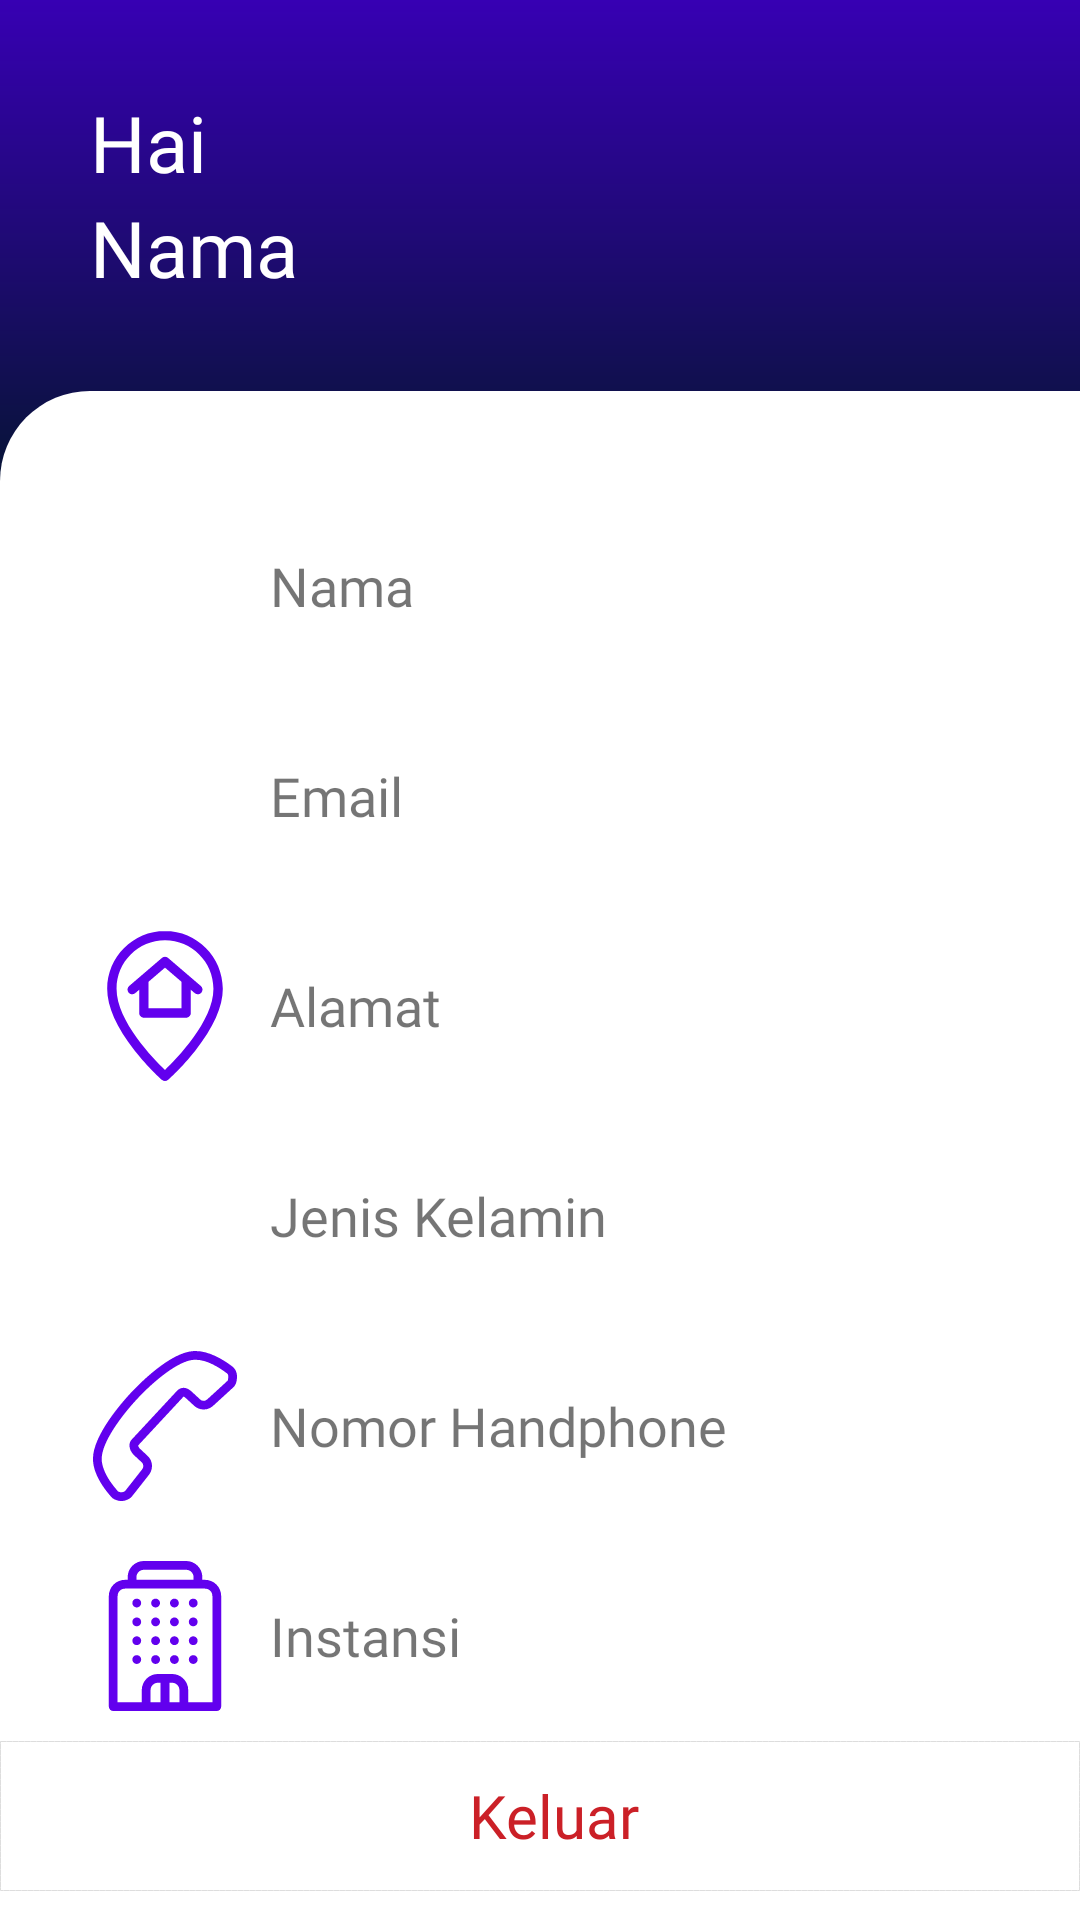

Where icons sit on this 1080px×1920px app screen, as (x1, y1, x2, y2):
address: (107, 931, 223, 1081)
company: (108, 1561, 222, 1711)
